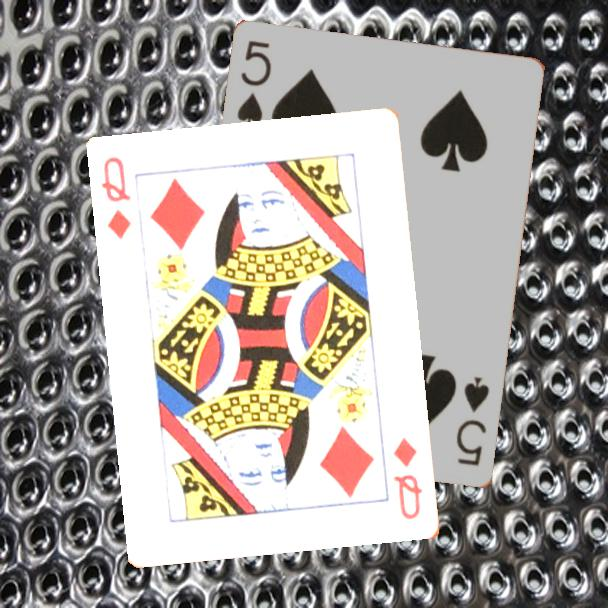d12: (98, 154, 135, 243), (390, 434, 426, 523)
s05: (234, 37, 275, 132), (453, 373, 493, 469)
